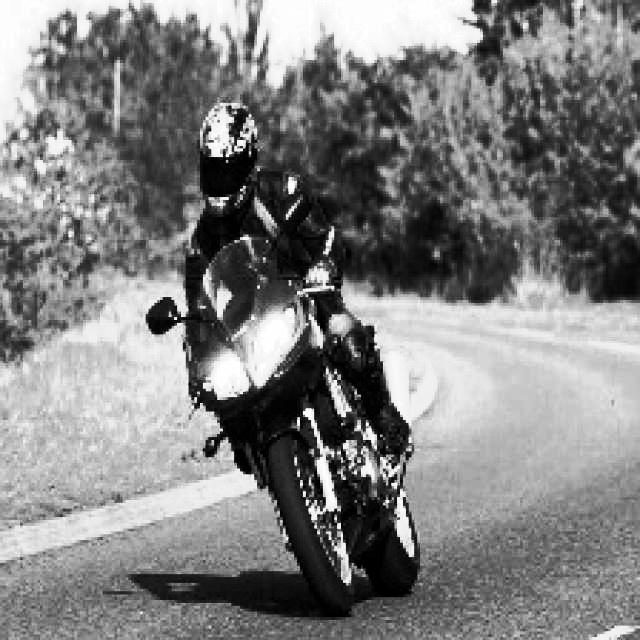Bike: (172, 262, 422, 626)
